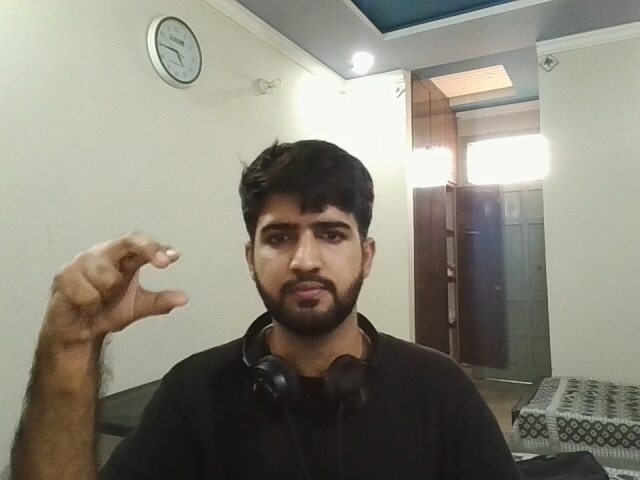No: (39, 214, 197, 360)
